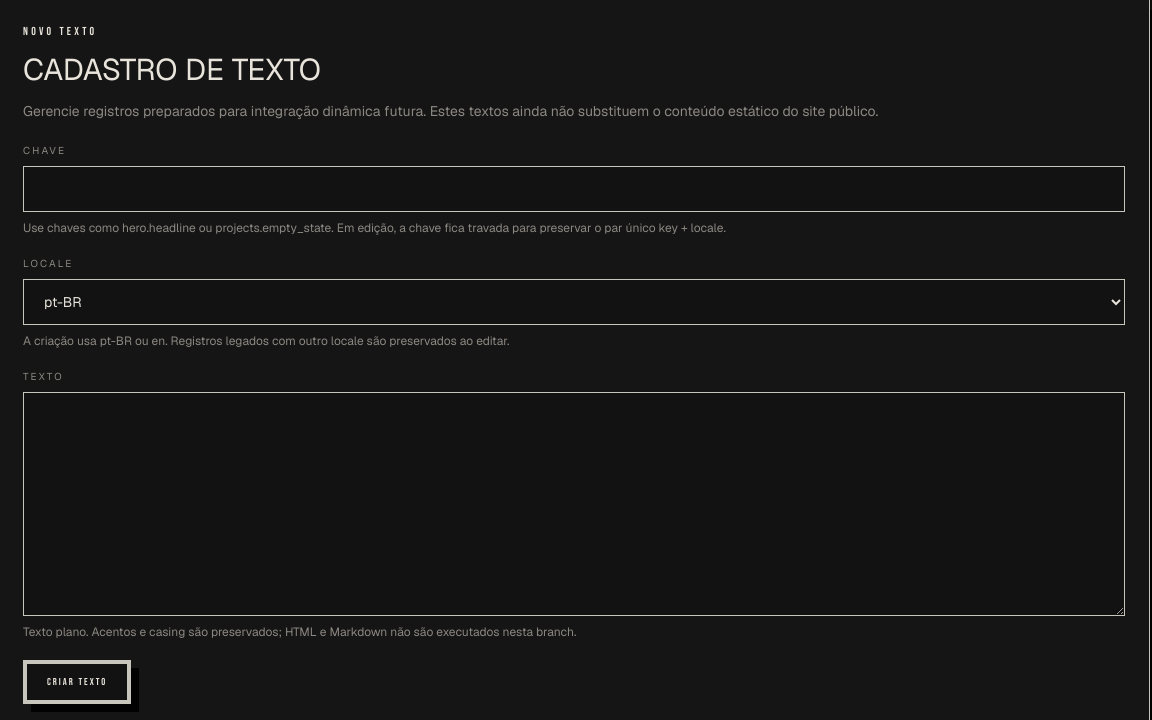
Test: SiteCopyForm › shows validation errors without clearing user input
This screenshot has width=1152, height=720.
Type "hero headline" into the field labelled "Chave" at (574, 189), box [23,166,1125,212]
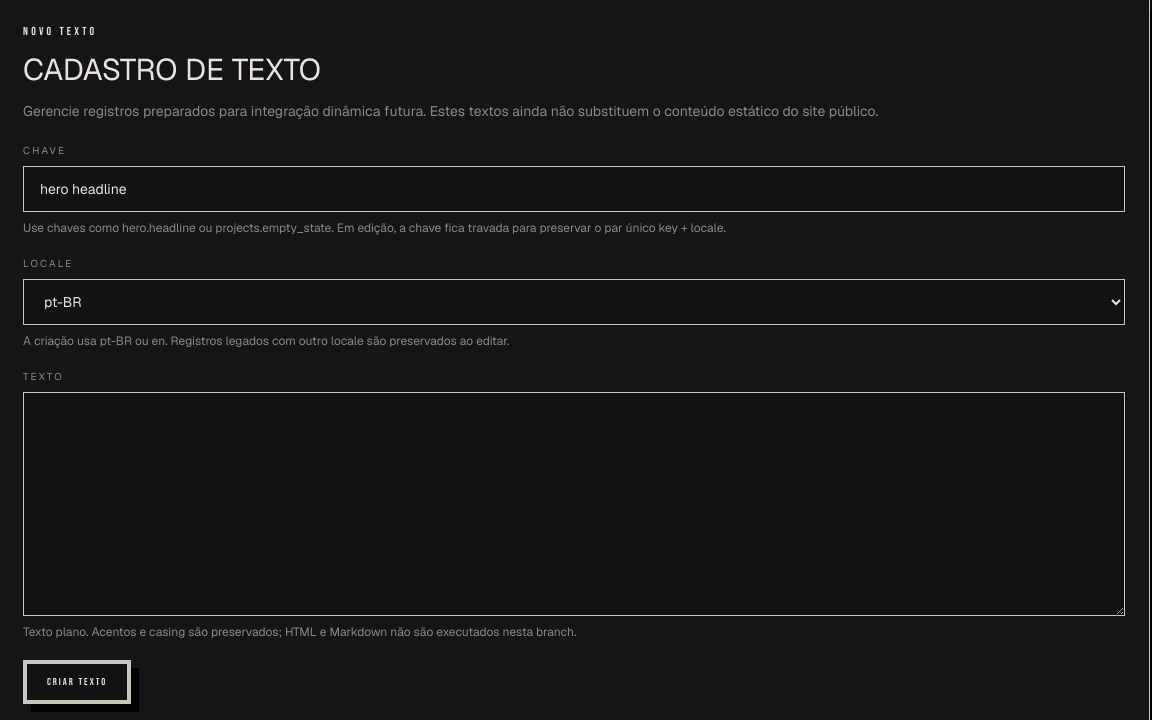
Type "Texto preservado" into the text box labelled "Texto" at (574, 504), box [23,392,1125,616]
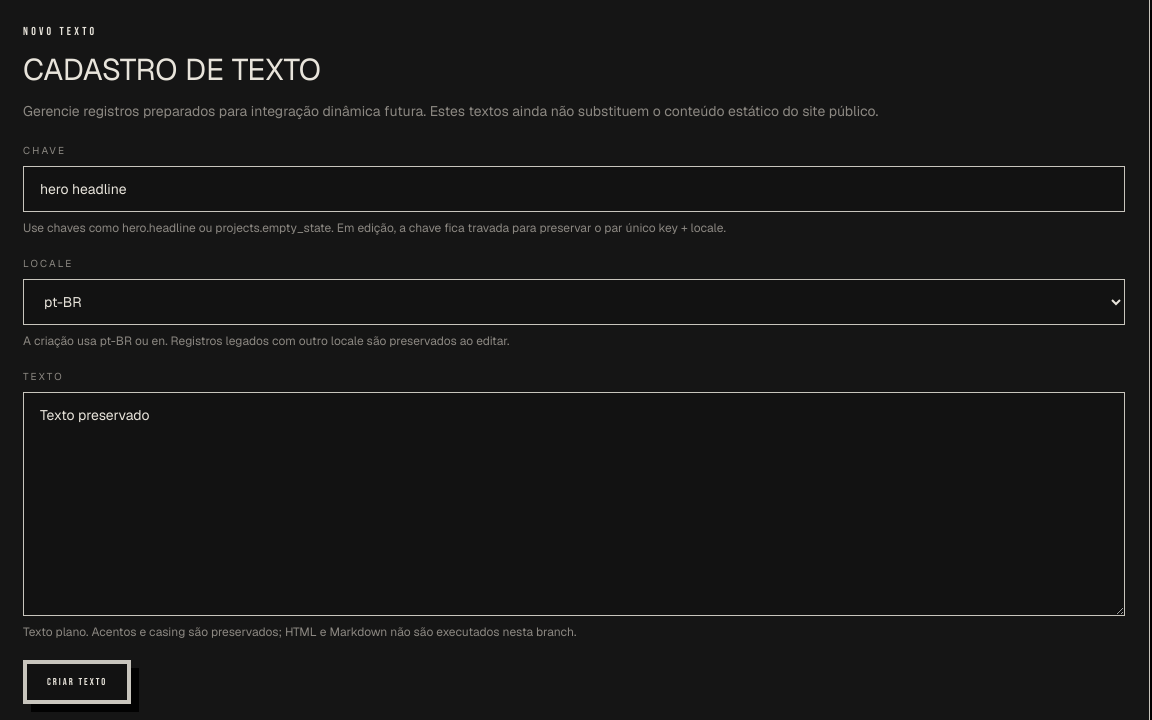
Click the button "Criar texto" at (77, 682), box [23,660,131,704]
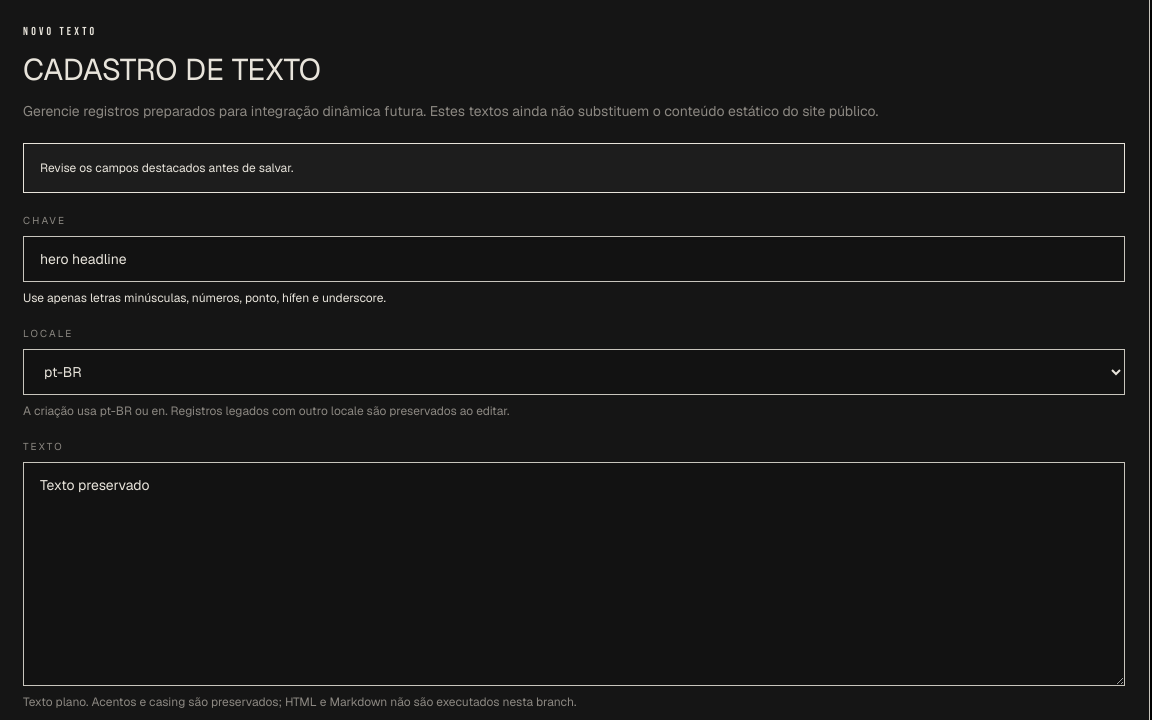
Now the message shows "Revise", box [40,160,293,176]
